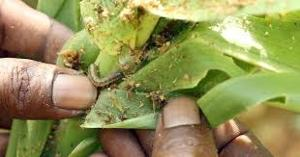fallarmy_worm: (79, 63, 128, 89)
